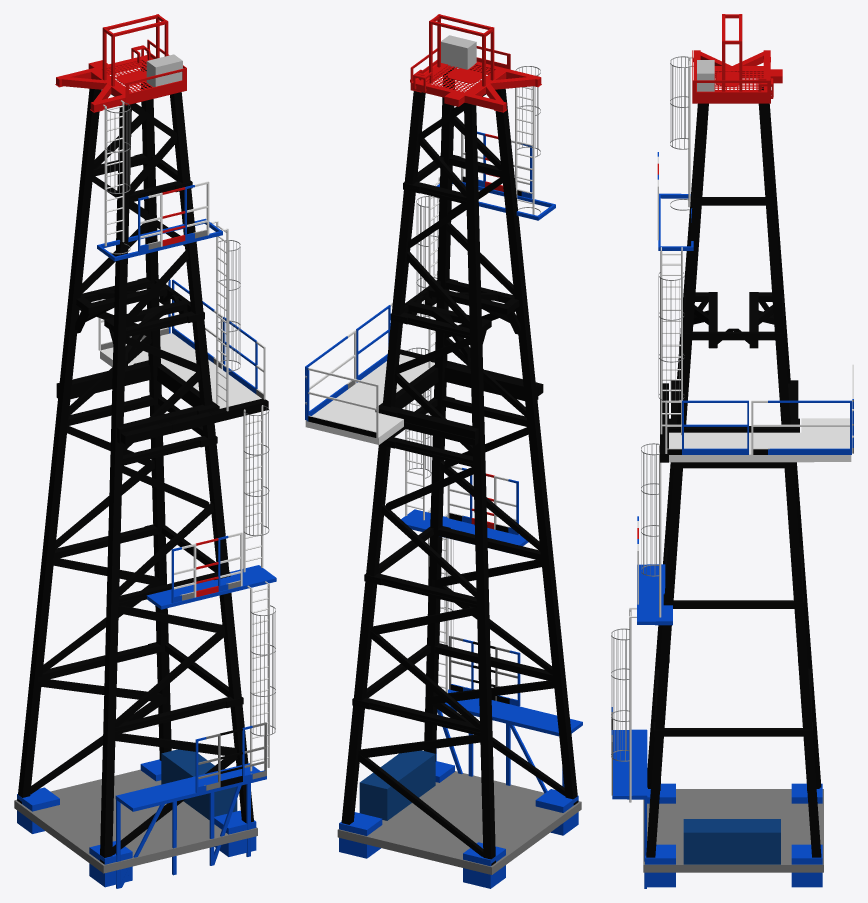
The picture shows the model from 3 angles, left to right: view 1: azimuth 30°, elevation 25°; view 2: azimuth 150°, elevation 25°; view 3: azimuth 270°, elevation 25°; orthographic projection.
Visible parts, largest first — view 1: Antenne; view 2: Antenne; view 3: Antenne.
Part boxes in pixels (x1,y1,x2,y2): Antenne: (14,14,276,888); Antenne: (305,14,582,888); Antenne: (611,14,853,888).
Size of the model in its own units: 58.93 by 266 by 70.79.
